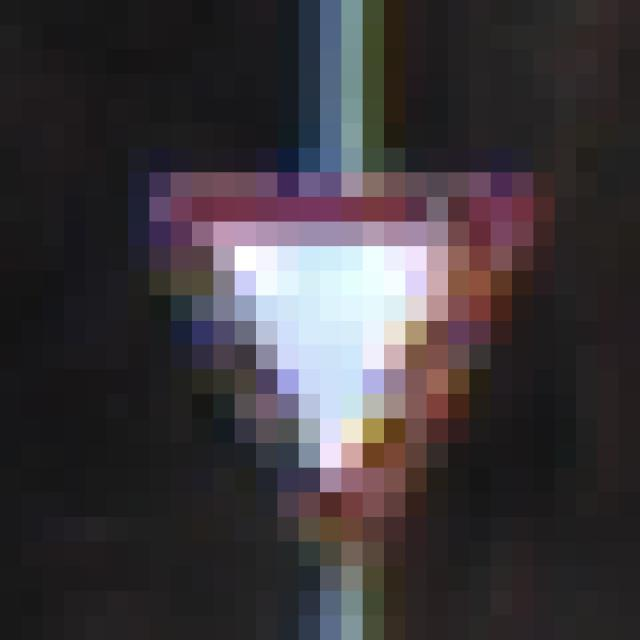Give Way: (108, 124, 534, 518)
